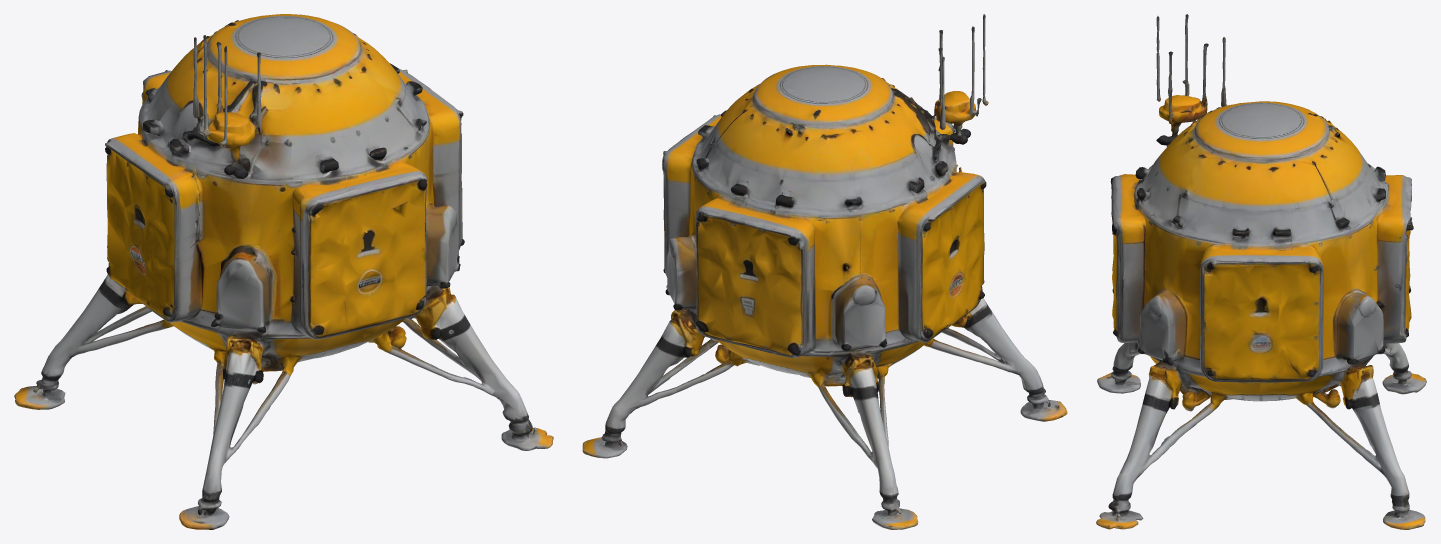
Rendered from apex-cosmos-modulo.glb.
3 renders of one model, left to right at view 1: azimuth 30°, elevation 25°; view 2: azimuth 150°, elevation 25°; view 3: azimuth 270°, elevation 25°, orthographic. The views are drawn at different scales.
Size of the model in its own units: 1.72 by 2 by 1.55.
1 material, 1 textured.
